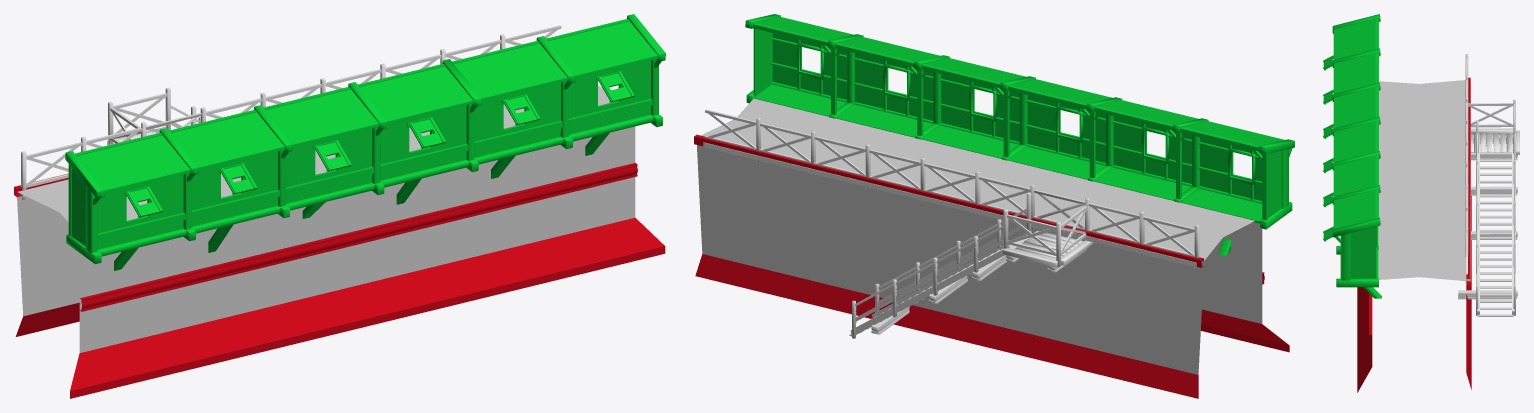
The model's file is Wall_1v2 (1).fbx.
The picture shows the model from 3 angles, left to right: view 1: azimuth 30°, elevation 25°; view 2: azimuth 150°, elevation 25°; view 3: azimuth 270°, elevation 25°; orthographic projection. The views are drawn at different scales.
Parts seen in each view (by area): view 1: Group_4.007, Group_3.012, Group_3.013, Group_4.014, Group_4.011, Group_4.013, Group_4.010, Group_4.034, Group_4.012; view 2: Group_4.007, Group_3.012, Group_3.013, Group_3.011; view 3: Group_4.007, Group_3.013, Group_3.012.
Part boxes in pixels (x1,y1,x2,y2): Group_4.007: (14,14,665,398); Group_3.012: (19,25,561,199); Group_3.013: (106,87,200,145); Group_4.014: (503,94,540,125); Group_4.011: (220,163,257,194); Group_4.013: (409,117,445,148); Group_4.010: (126,186,162,217); Group_4.034: (598,71,634,102); Group_4.012: (315,140,351,171); Group_4.007: (694,14,1294,398); Group_3.012: (703,109,1199,269); Group_3.013: (849,192,1093,338); Group_3.011: (1032,189,1086,240); Group_4.007: (1332,14,1471,392); Group_3.013: (1458,99,1519,316); Group_3.012: (1465,54,1470,281).
Size of the model in its own units: 2058 by 769 by 793.
